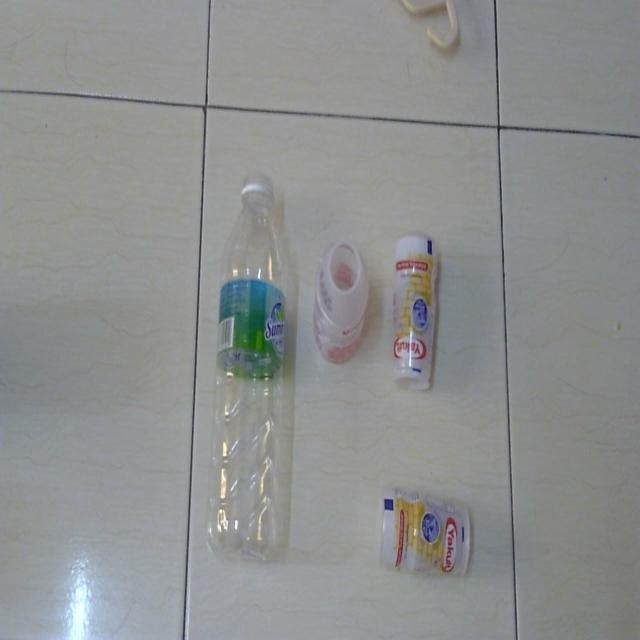plastic_laydown_0rotation: (373, 472, 475, 595)
plastic_laydown_90rotation: (204, 168, 292, 571), (389, 229, 440, 396)
plastic_standrotation: (312, 231, 370, 361)
